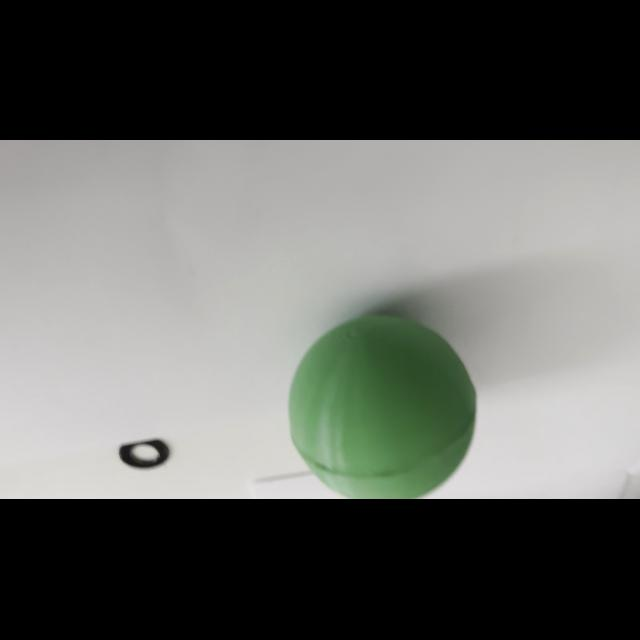objects: (286, 306, 480, 498)
